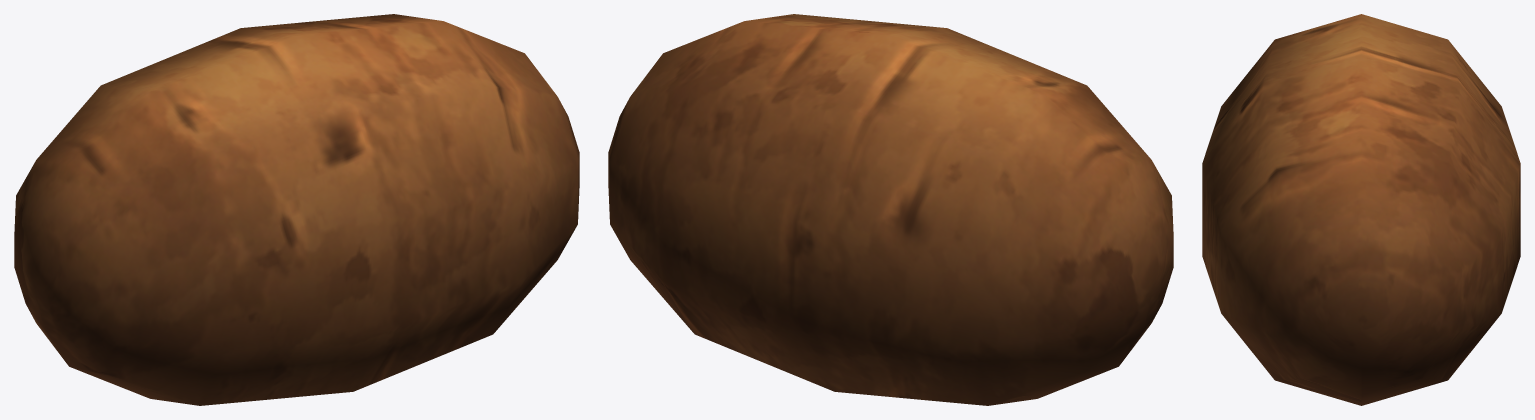
The model's file is Potato_Russet.fbx.
3 views of the same model, side by side, from view 1: azimuth 30°, elevation 25°; view 2: azimuth 150°, elevation 25°; view 3: azimuth 270°, elevation 25° (orthographic). The views are drawn at different scales.
Parts seen in each view (by area): view 1: Potato_Russet; view 2: Potato_Russet; view 3: Potato_Russet.
Part boxes in pixels (left/top/right/bottom): Potato_Russet: left=14, top=14, right=579, bottom=405; Potato_Russet: left=608, top=14, right=1173, bottom=405; Potato_Russet: left=1202, top=14, right=1520, bottom=405.
Size of the model in its own units: 60.54 by 37.91 by 36.05.
